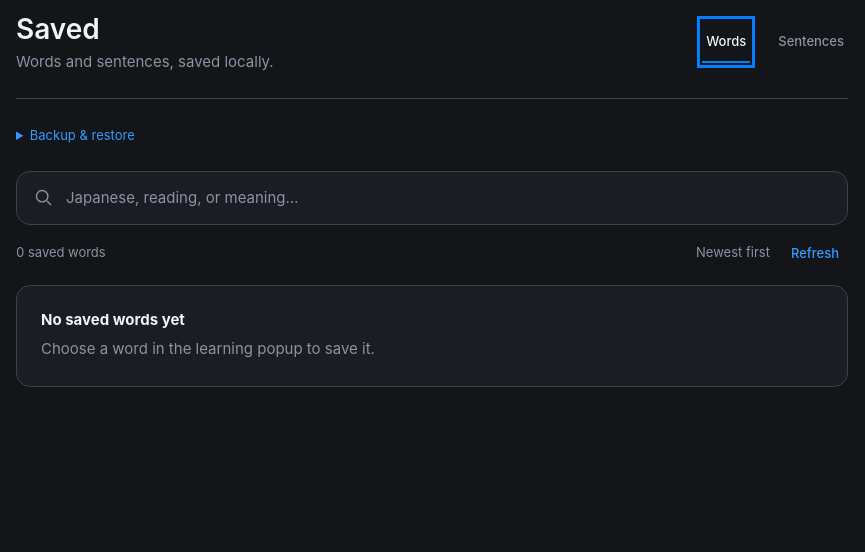
Test: treats native cancellation of Restore backup as a no-op
Click the heading "Backup & restore": click(82, 135) [30, 127, 135, 143]
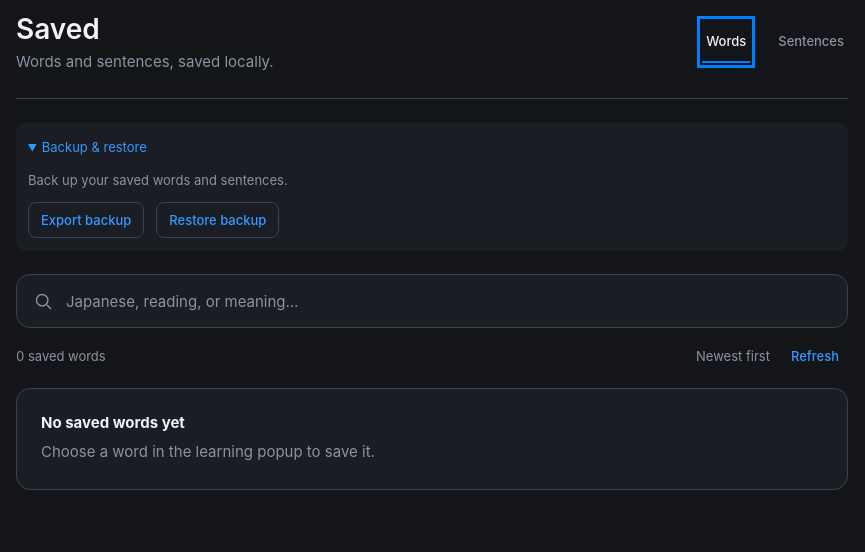
Click the button "Restore backup": click(218, 220) [156, 202, 279, 238]
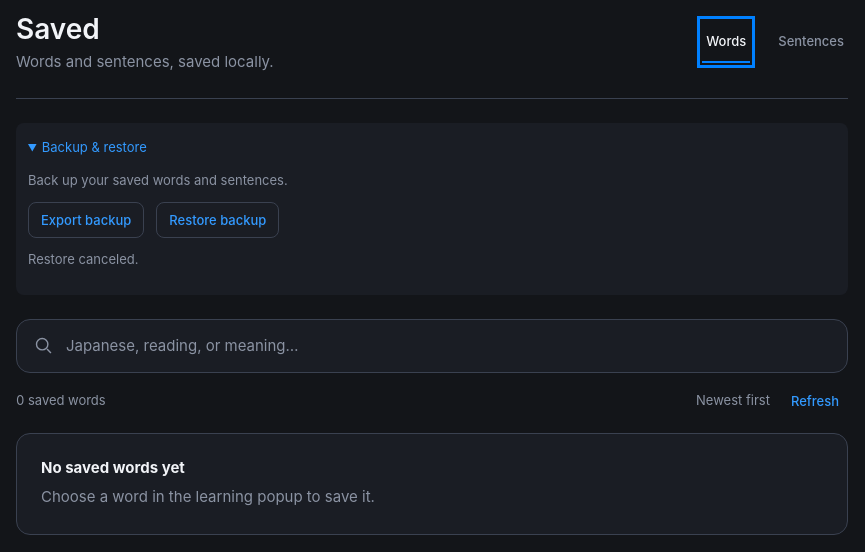
Expected: the text "Restore canceled." is shown, [28, 251, 138, 267]
